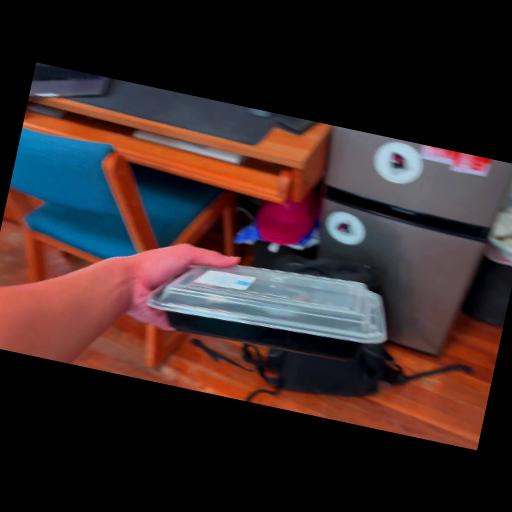rigid_plastic_container: (142, 240, 396, 372)
